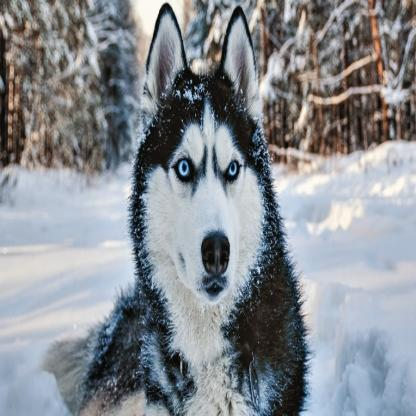husky: (81, 1, 307, 416)
